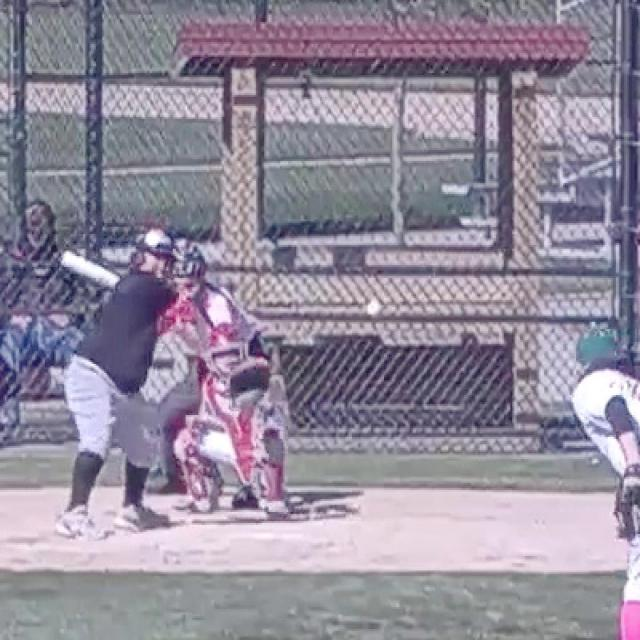baseball: (366, 302, 379, 316)
